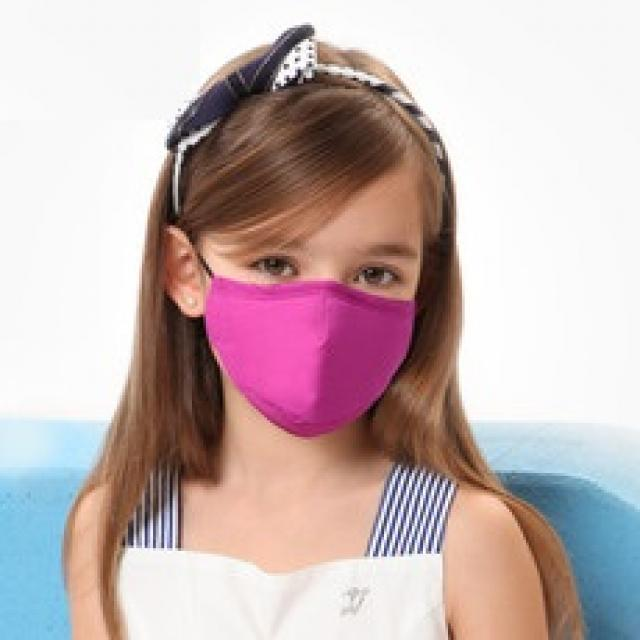mask: (200, 150, 428, 440)
